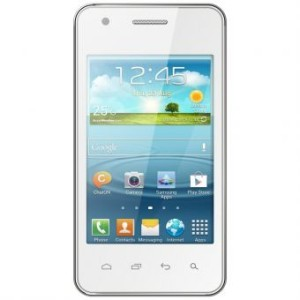Handphone: (71, 1, 230, 297)
